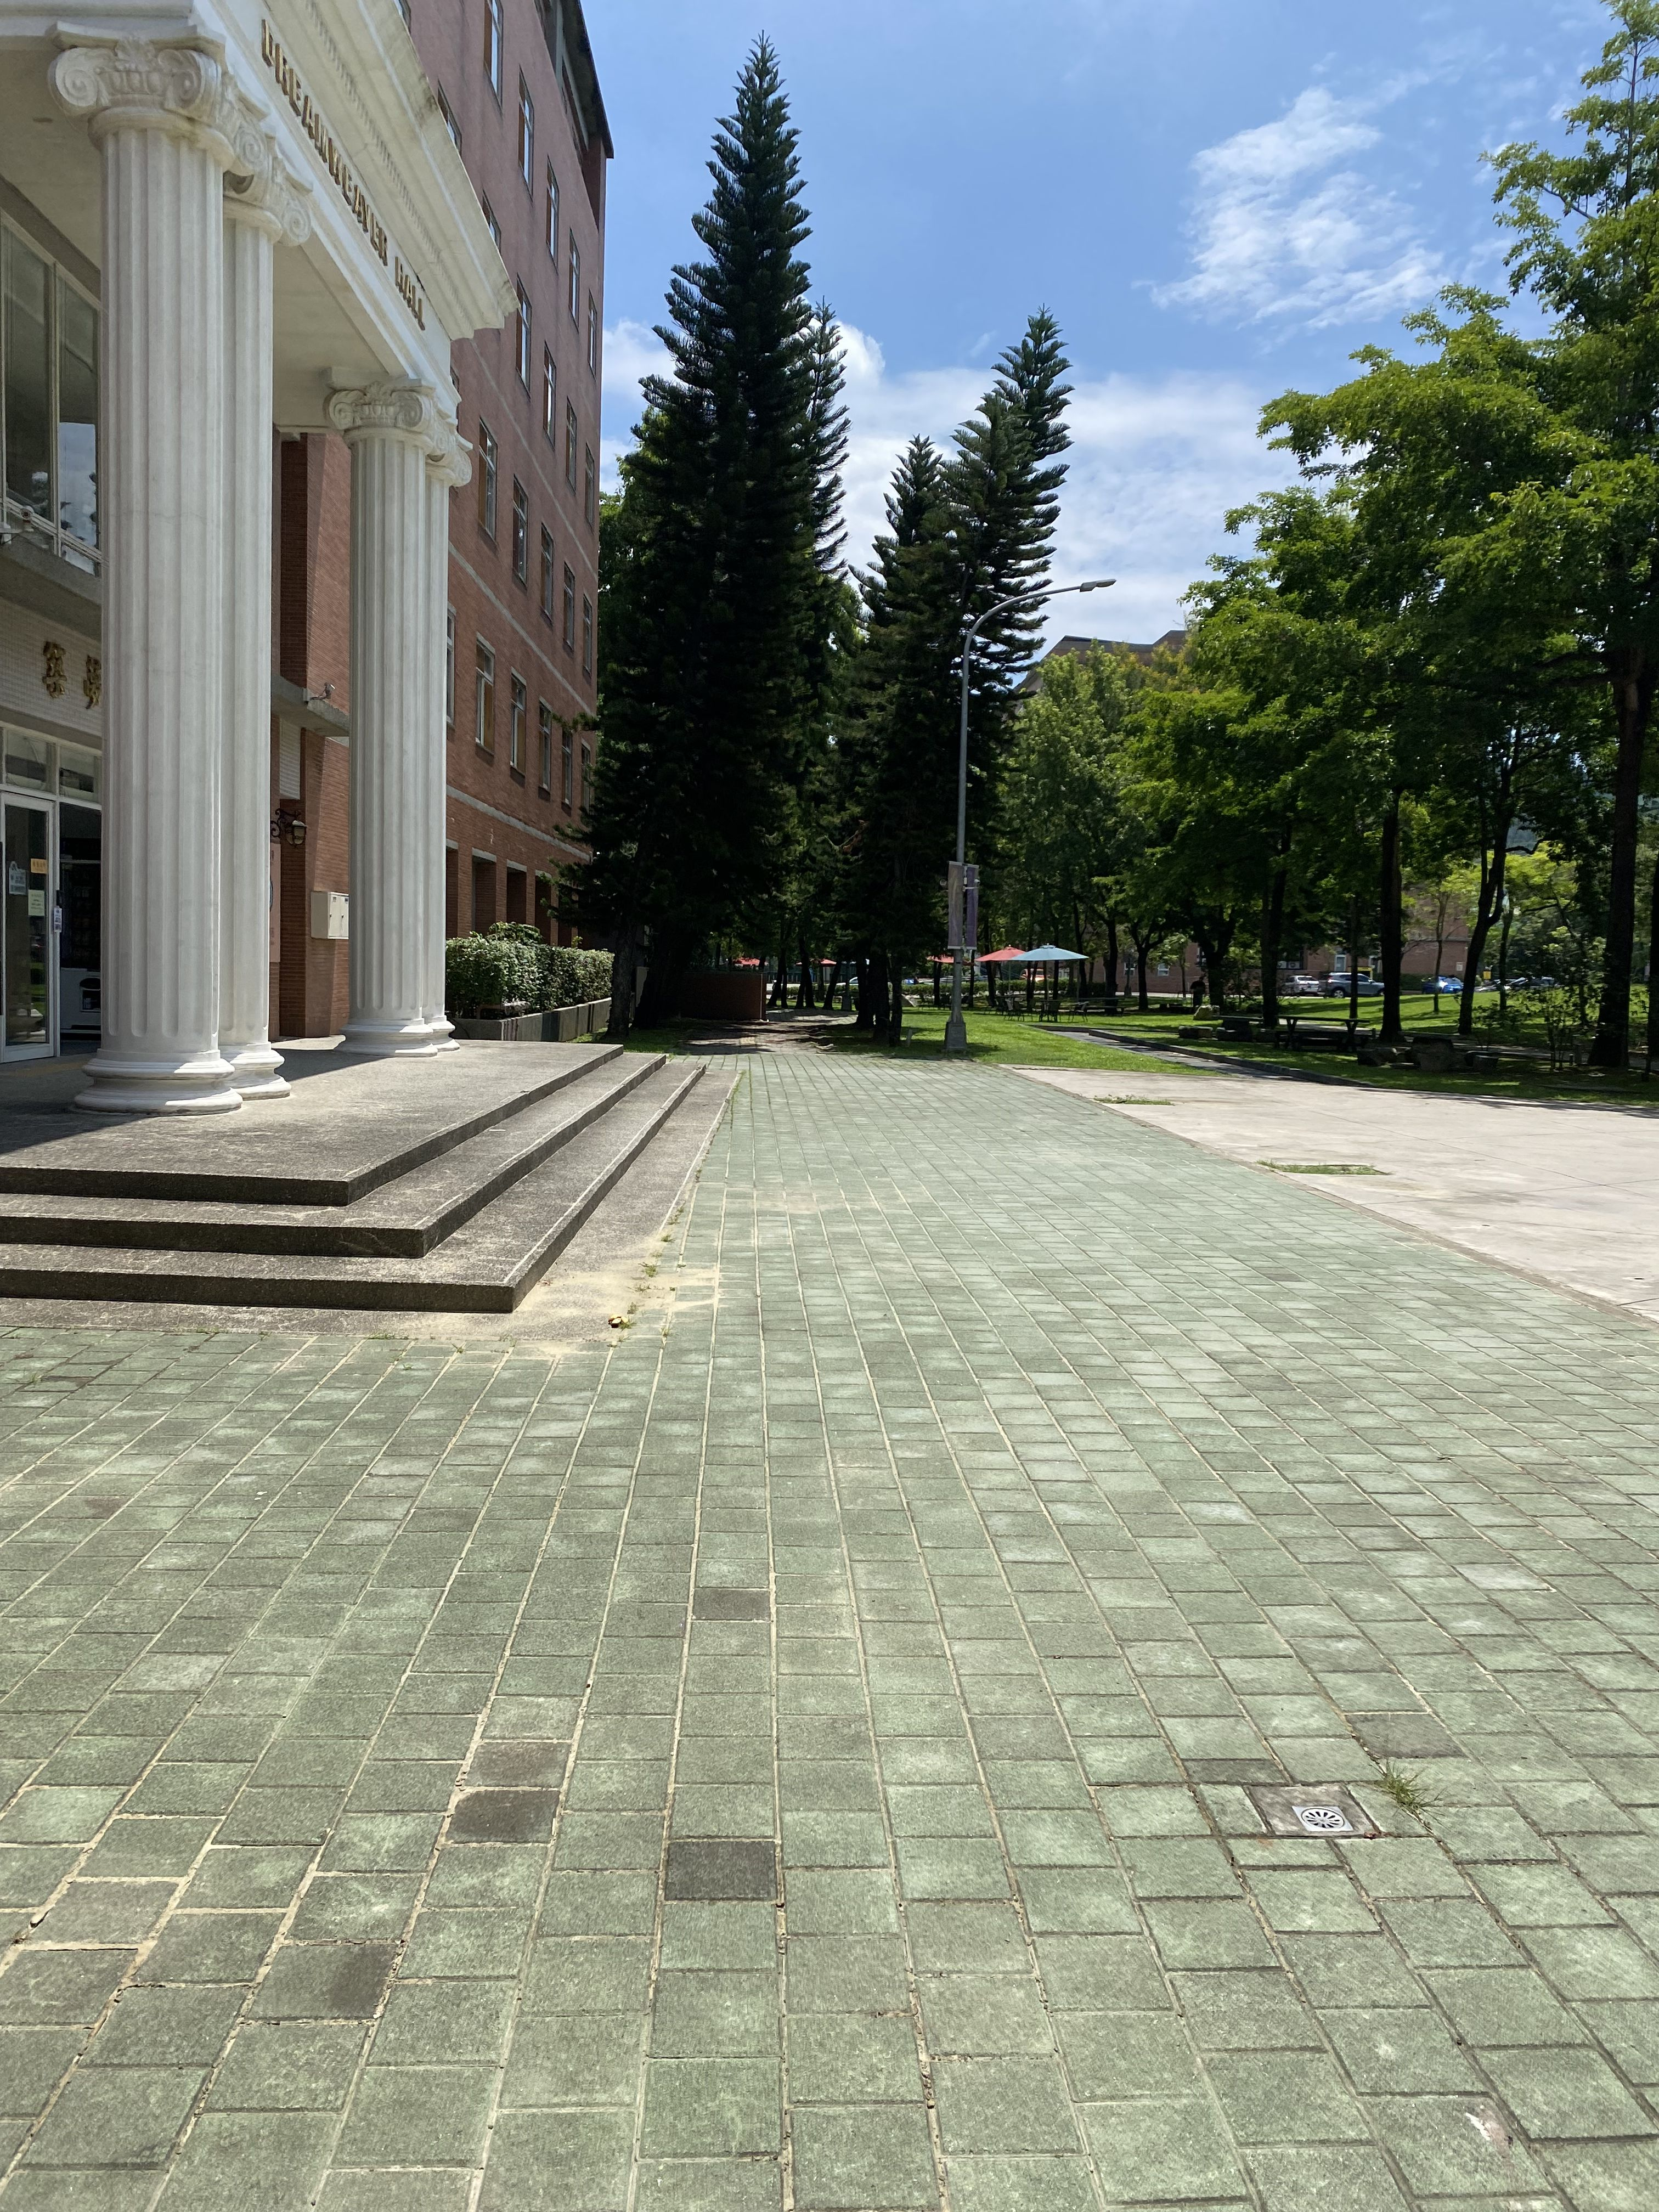0: (10, 1249, 619, 2203)
sidewalk: (532, 960, 1659, 2212)
